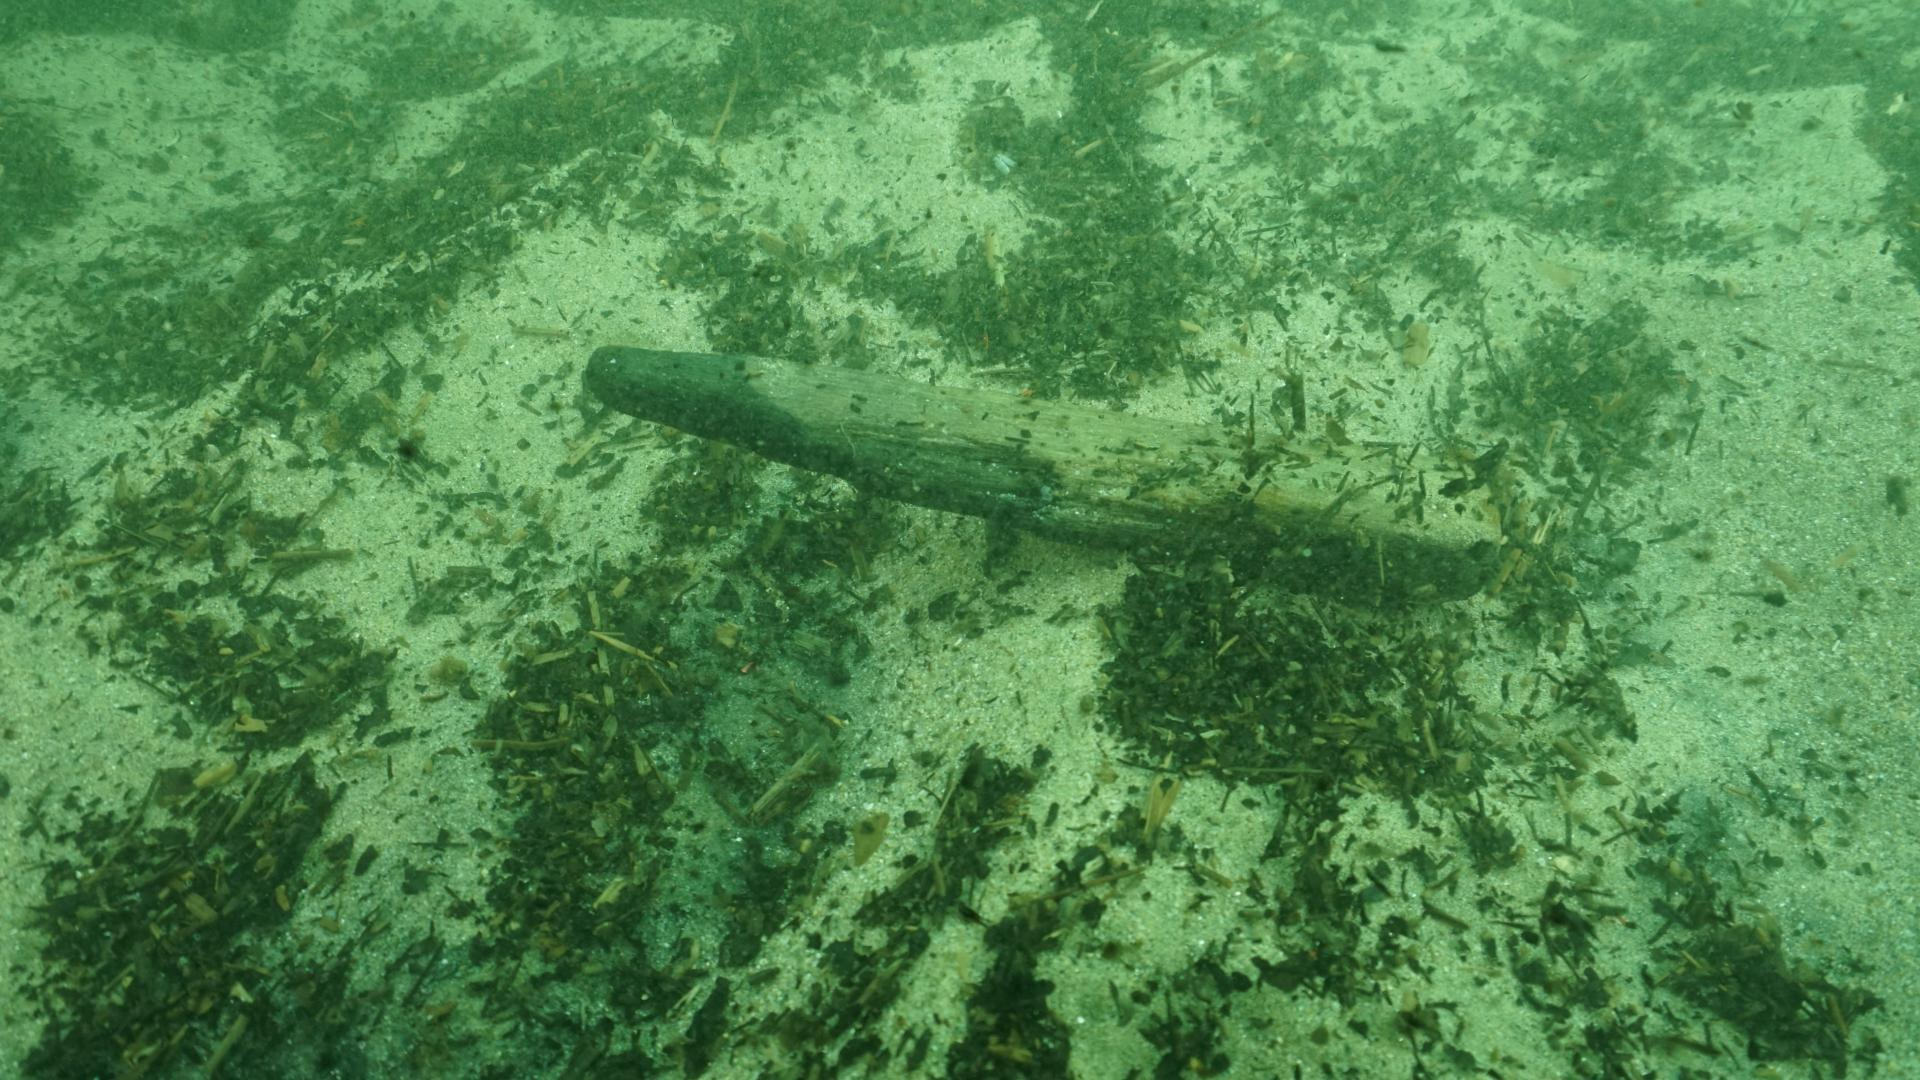wood: (582, 342, 1501, 605)
